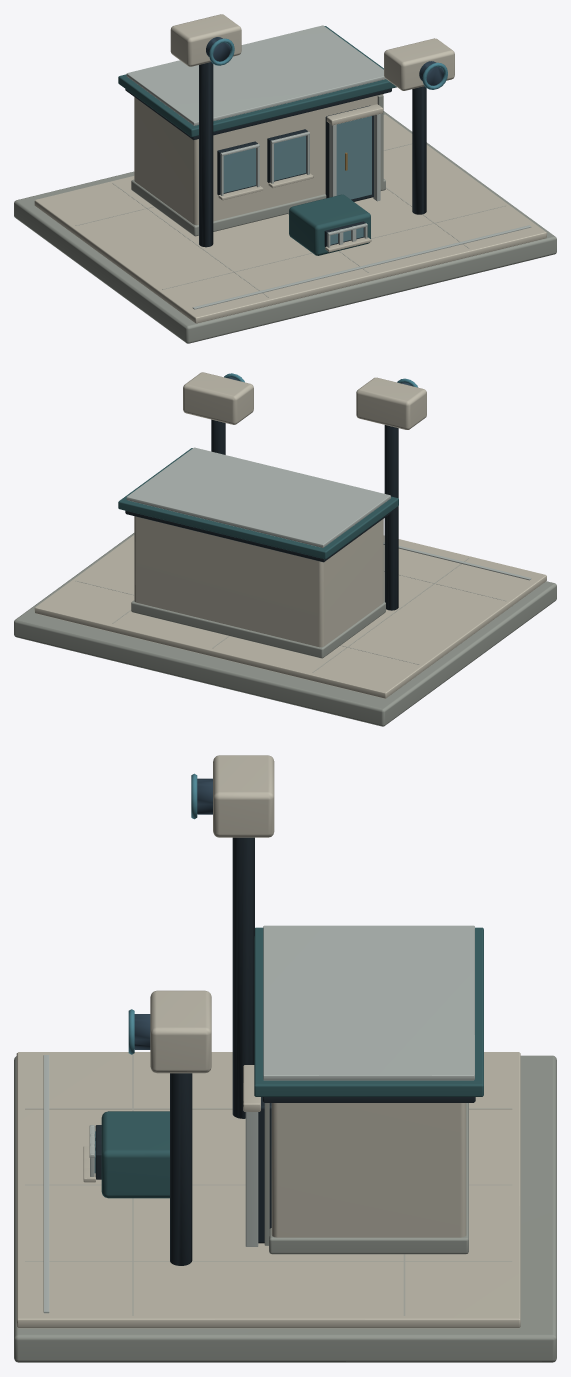
File: idea-459f3a7d.glb
3 views of the same model, one above another, from view 1: azimuth 30°, elevation 25°; view 2: azimuth 150°, elevation 25°; view 3: azimuth 270°, elevation 25° (orthographic). The views are drawn at different scales.
Visible parts, largest first — view 1: Karmic Cameras; view 2: Karmic Cameras; view 3: Karmic Cameras.
Part boxes in pixels (left/top/right/bottom): Karmic Cameras: left=14, top=14, right=556, bottom=343; Karmic Cameras: left=14, top=372, right=556, bottom=726; Karmic Cameras: left=14, top=755, right=556, bottom=1362.
Bounding box in the file's own units: 4.8 × 3 × 3.9.
